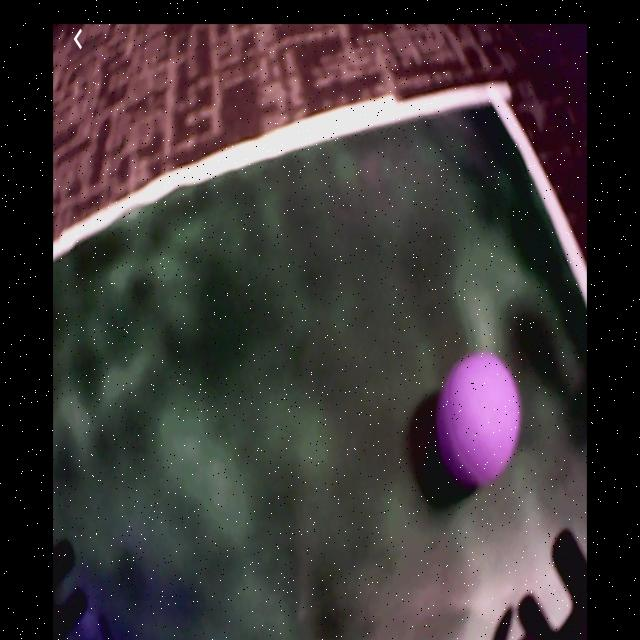ball: (438, 353, 520, 485)
